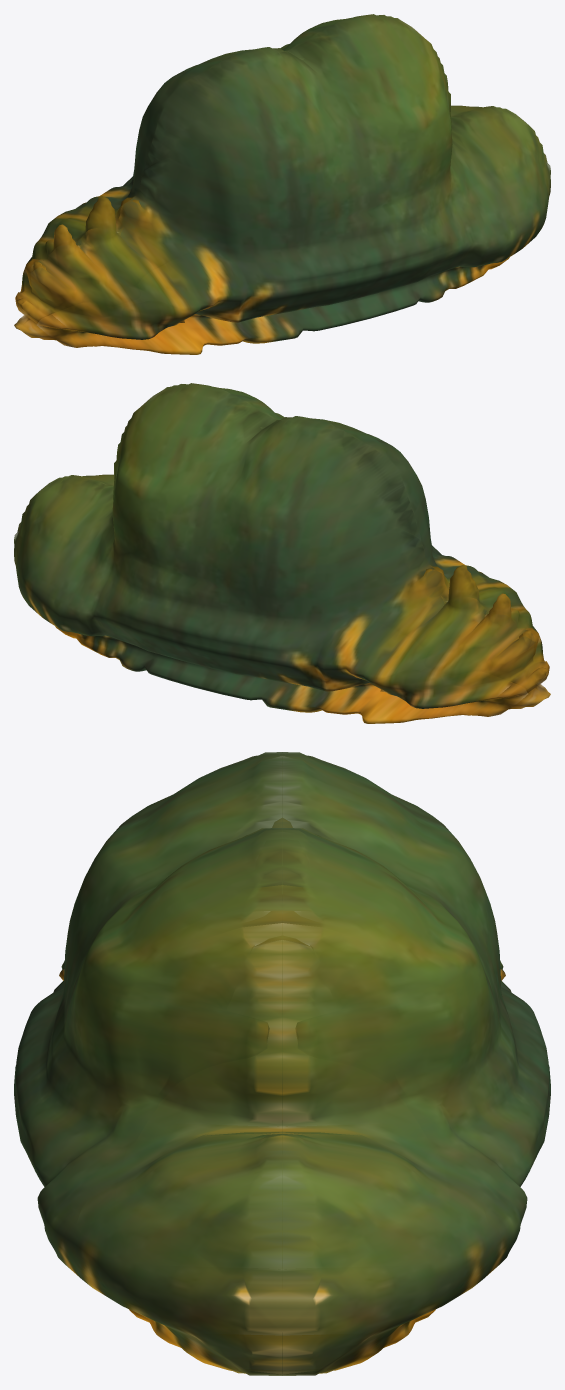
File: 01_rocks_and_bushes_r02_c01.glb
The picture shows the model from 3 angles, top to bottom: view 1: azimuth 30°, elevation 25°; view 2: azimuth 150°, elevation 25°; view 3: azimuth 270°, elevation 25°; orthographic projection. The views are drawn at different scales.
Visible parts, largest first — view 1: 01_rocks_and_bushes_r02_c01; view 2: 01_rocks_and_bushes_r02_c01; view 3: 01_rocks_and_bushes_r02_c01.
Boxes of the visible parts, left/top/right/bottom form: 01_rocks_and_bushes_r02_c01: left=14, top=14, right=550, bottom=354; 01_rocks_and_bushes_r02_c01: left=14, top=383, right=550, bottom=723; 01_rocks_and_bushes_r02_c01: left=14, top=752, right=550, bottom=1375.
Size of the model in its own units: 2.91 by 1.33 by 1.53.
1 material, 1 textured.
